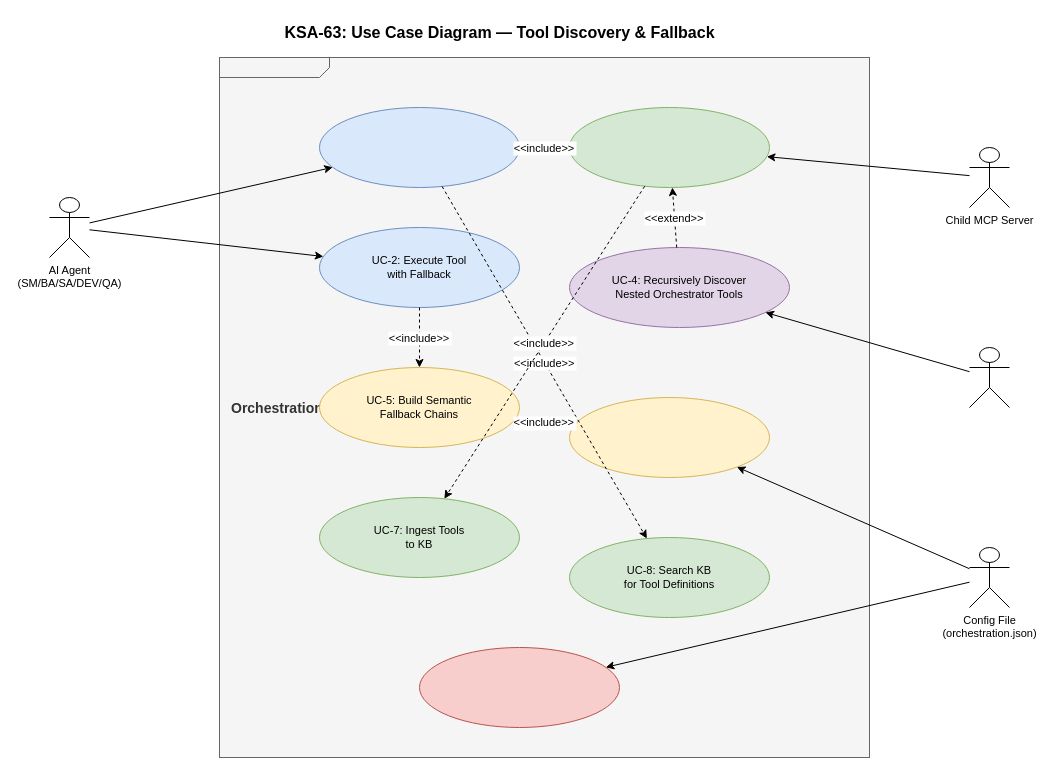
The diagram is 1056 pixels wide and 775 high, and some of its shapes have lost their labels. The shapes that lost their labels are listed below. From the top down, each one's centre as x and y in pixels, then its label:
pixel 419 147: UC-1: Find Tools (Semantic Search)
pixel 669 147: UC-3: Discover Tools from Child Servers
pixel 989 377: Nested Orchestrator
pixel 669 437: UC-6: Determine Priority from Config Order
pixel 519 687: UC-9: Hot-Reload Config & Rebuild Chains
